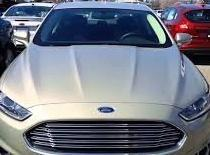Cars: (1, 4, 209, 155)
